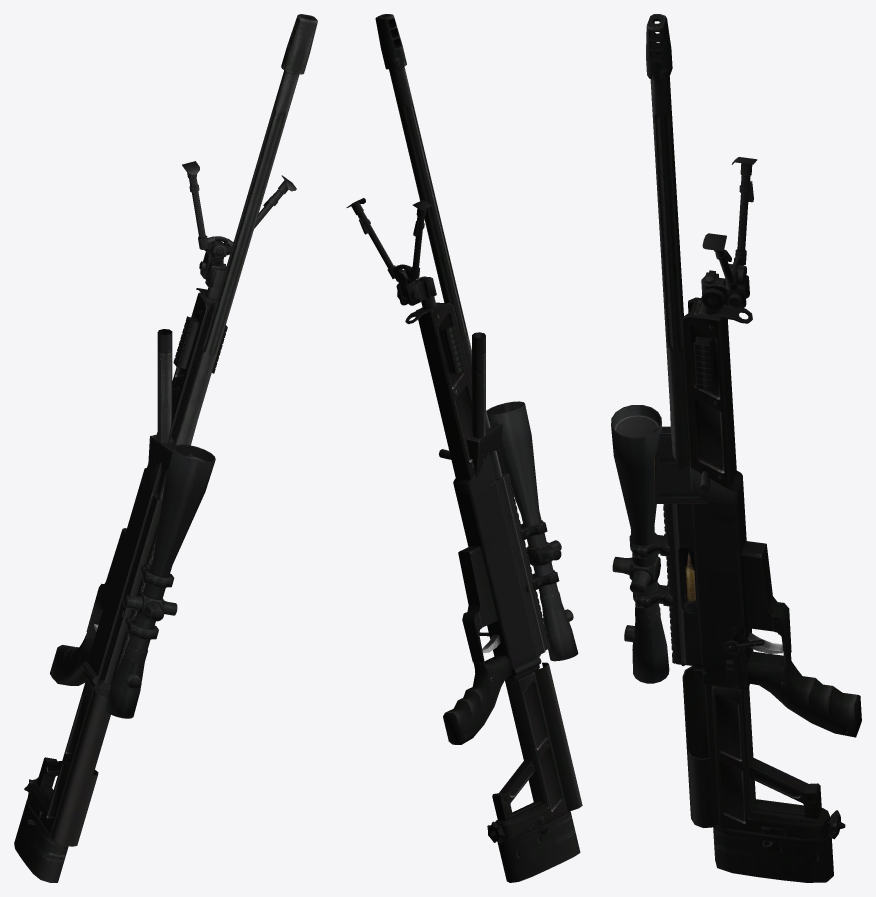
File: RangeMaster338.obj
3 renders of one model, left to right at view 1: azimuth 30°, elevation 25°; view 2: azimuth 150°, elevation 25°; view 3: azimuth 270°, elevation 25°, orthographic. The views are drawn at different scales.
Visible parts, largest first — view 1: Model_RngMaster_338, Model_PSG1_Scope, Model_RngMaster_Bipod, Model_Handle, Model_Magazine; view 2: Model_RngMaster_338, Model_PSG1_Scope, Model_RngMaster_Bipod, Model_Handle, Model_Magazine; view 3: Model_RngMaster_338, Model_PSG1_Scope, Model_RngMaster_Bipod, Model_Magazine.
Part boxes in pixels (x1,y1,x2,y2): Model_RngMaster_338: [14, 14, 317, 882]; Model_PSG1_Scope: [104, 444, 215, 718]; Model_RngMaster_Bipod: [182, 161, 296, 301]; Model_Handle: [157, 329, 172, 443]; Model_Magazine: [148, 434, 192, 493]; Model_RngMaster_338: [375, 14, 582, 882]; Model_PSG1_Scope: [486, 401, 578, 661]; Model_RngMaster_Bipod: [346, 198, 440, 323]; Model_Handle: [439, 332, 485, 459]; Model_Magazine: [466, 421, 505, 478]; Model_RngMaster_338: [646, 14, 861, 882]; Model_PSG1_Scope: [611, 405, 673, 683]; Model_RngMaster_Bipod: [698, 157, 757, 323]; Model_Magazine: [654, 426, 707, 503].
Size of the model in its own units: 0.3796 by 1.2 by 0.2777.
Materials: 3 (3 with a texture image).
